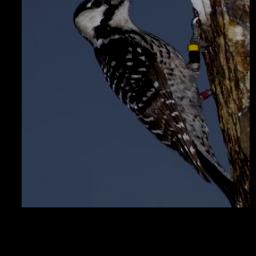Woodpecker: (70, 0, 240, 206)
